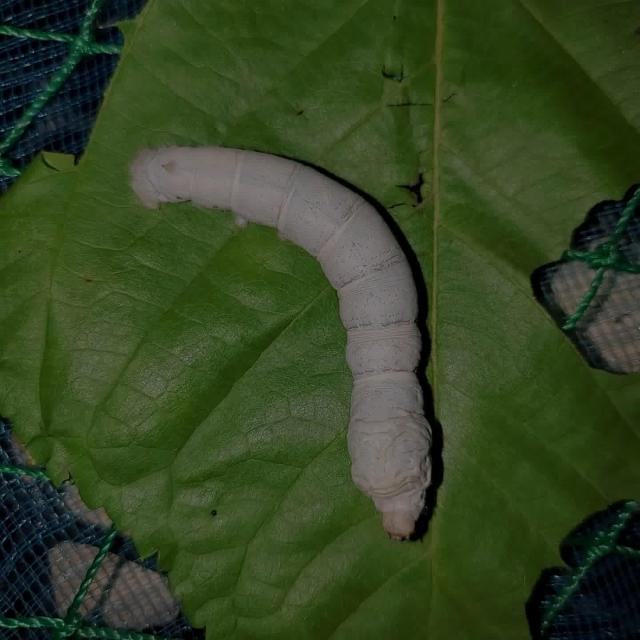Healthy: (121, 132, 446, 544)
